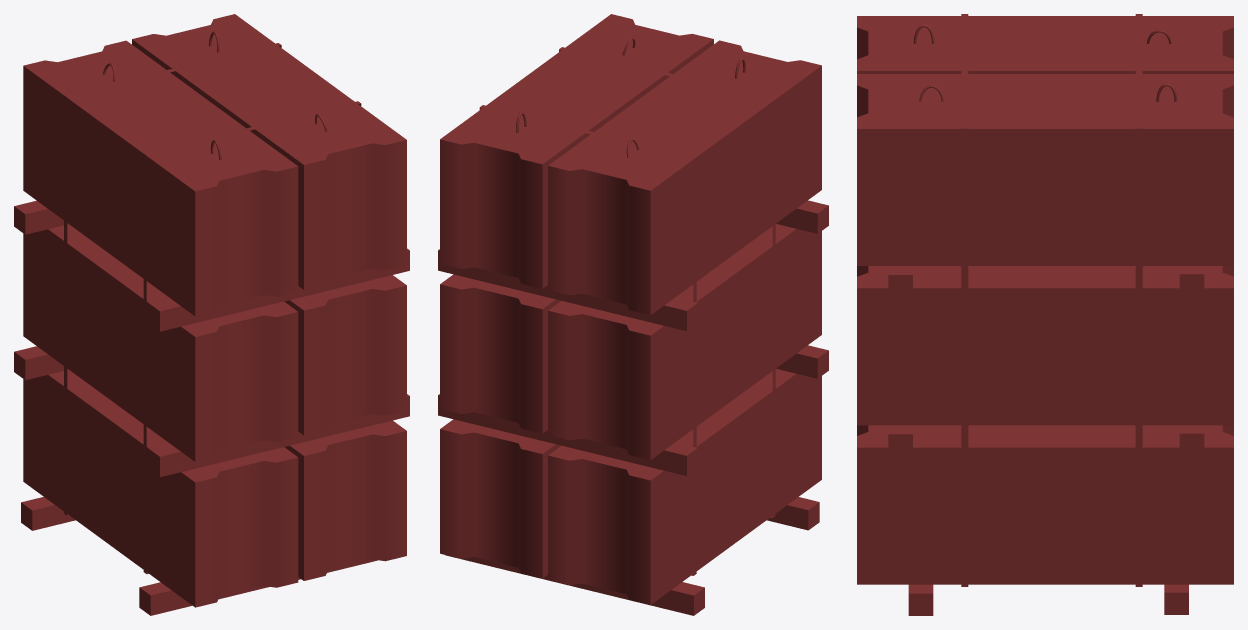
File: SM_Stone02Pack01.fbx
The picture shows the model from 3 angles, left to right: view 1: azimuth 30°, elevation 25°; view 2: azimuth 150°, elevation 25°; view 3: azimuth 270°, elevation 25°; orthographic projection. The views are drawn at different scales.
Visible parts, largest first — view 1: Stone02Pack01; view 2: Stone02Pack01; view 3: Stone02Pack01.
Boxes of the visible parts, <box> form: Stone02Pack01: <box>14,14,409,615</box>; Stone02Pack01: <box>438,14,828,615</box>; Stone02Pack01: <box>857,14,1233,615</box>.
Size of the model in its own units: 122 by 210 by 145.
